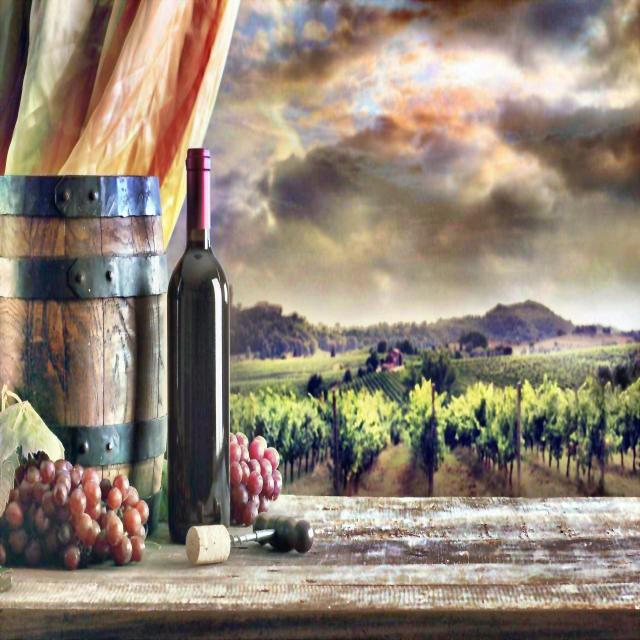cork: (184, 511, 234, 570)
